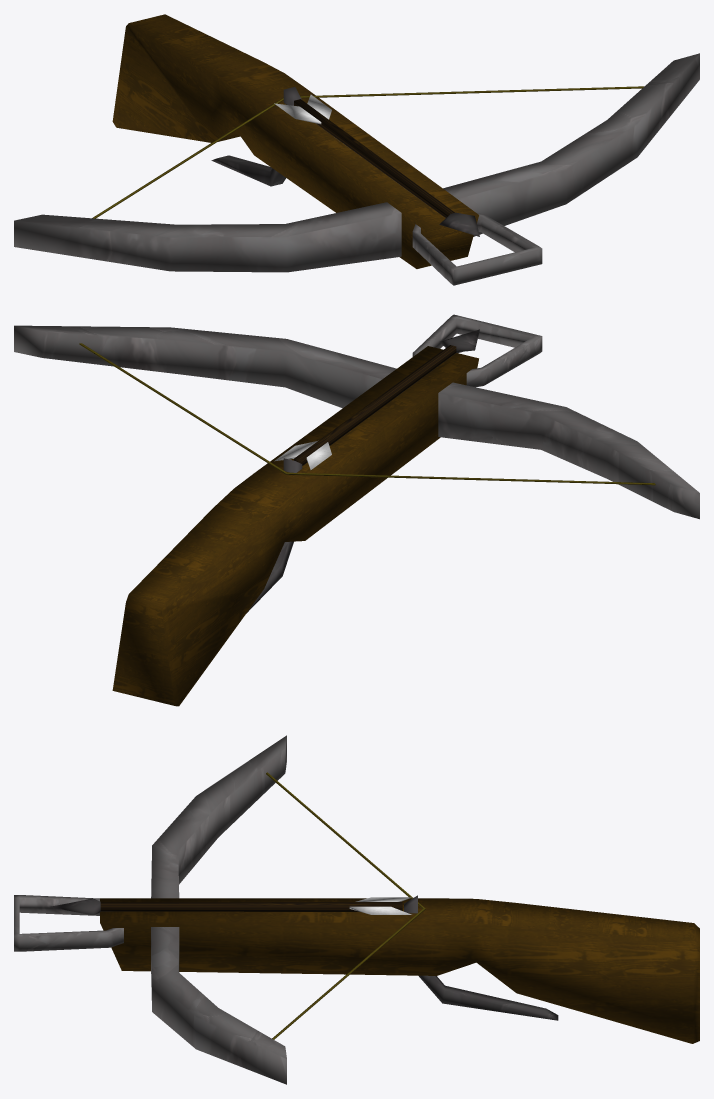
File: Kusza_z_taksturami.fbx
The picture shows the model from 3 angles, top to bottom: view 1: azimuth 30°, elevation 25°; view 2: azimuth 150°, elevation 25°; view 3: azimuth 270°, elevation 25°; orthographic projection. The views are drawn at different scales.
Parts seen in each view (by area): view 1: Kolba; view 2: Kolba; view 3: Kolba.
Boxes of the visible parts, left/top/right/bottom form: Kolba: left=14, top=14, right=699, bottom=285; Kolba: left=14, top=314, right=699, bottom=706; Kolba: left=14, top=735, right=699, bottom=1084.
Bounding box in the file's own units: 131 × 24.93 × 117.
1 material, 1 textured.
